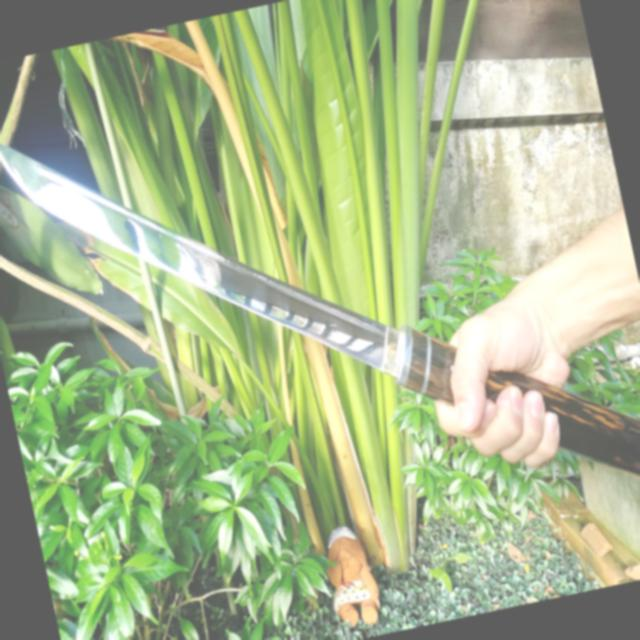short sword: (0, 10, 640, 606)
